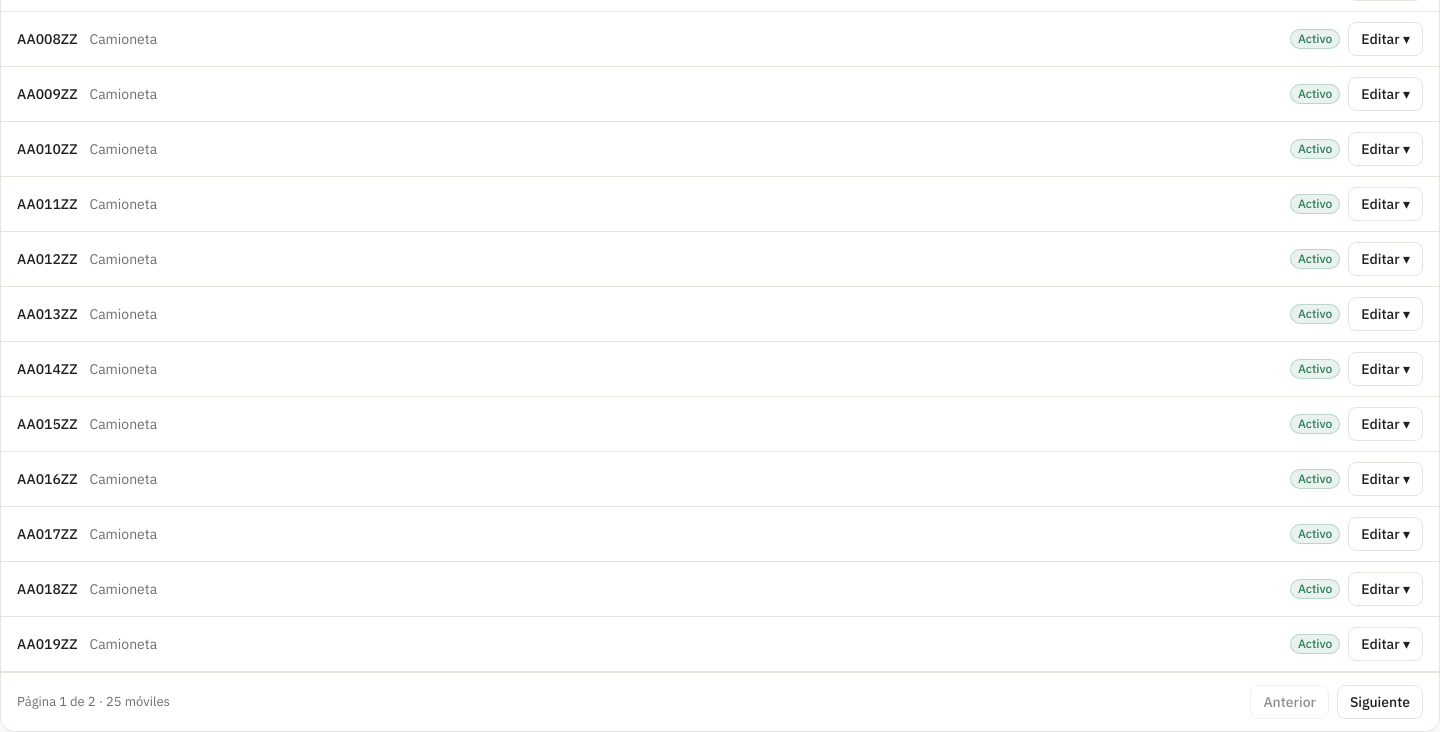
Test: MovilesAdminPage › paginación de a 20 › buscar vuelve a la primera página
(page scrolled)
Click the button "Siguiente" at (1380, 702), box [1337,685,1423,719]
(page scrolled)
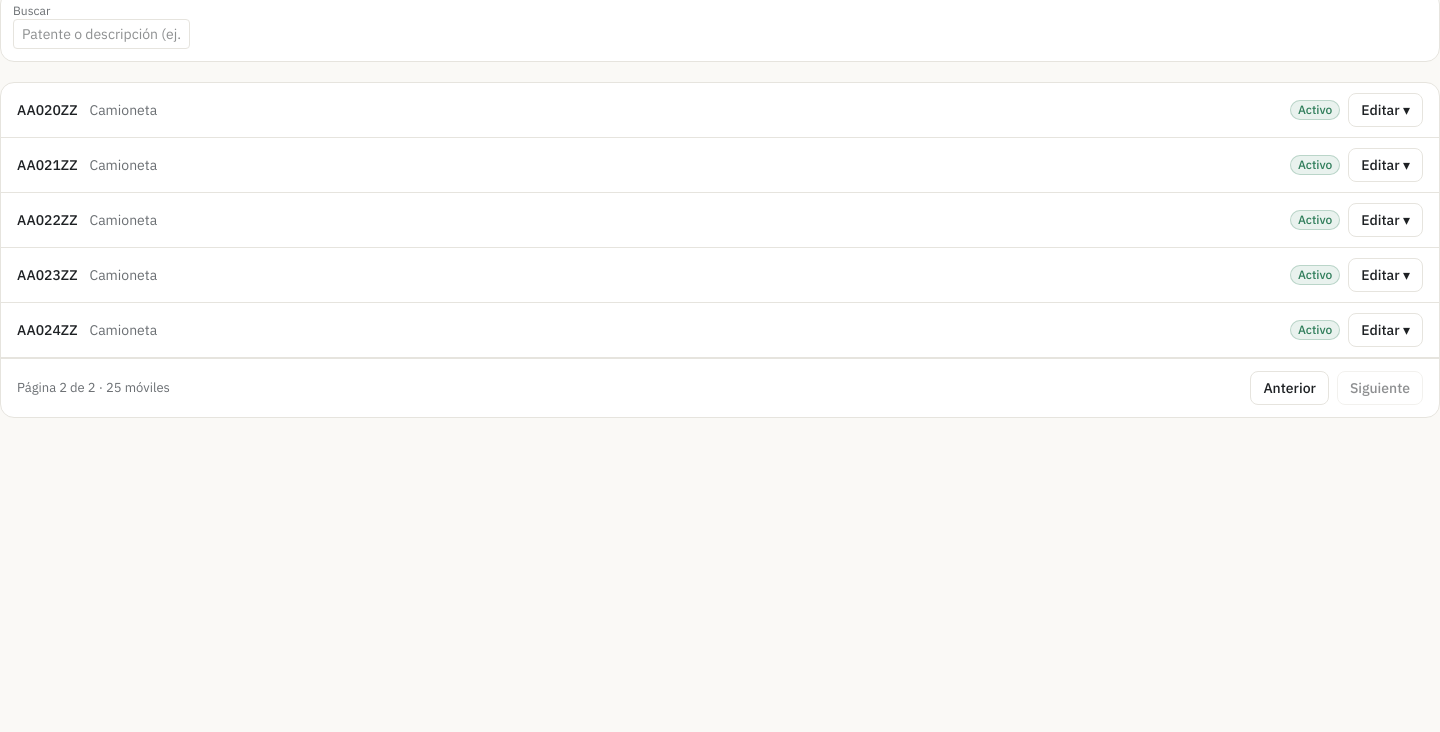
Now the text "Página 2 de 2 · 25 móviles" is shown, box [17,378,170,398]
Type "cam" into the field named "Buscar móvil" at (102, 34), box [13,19,190,49]
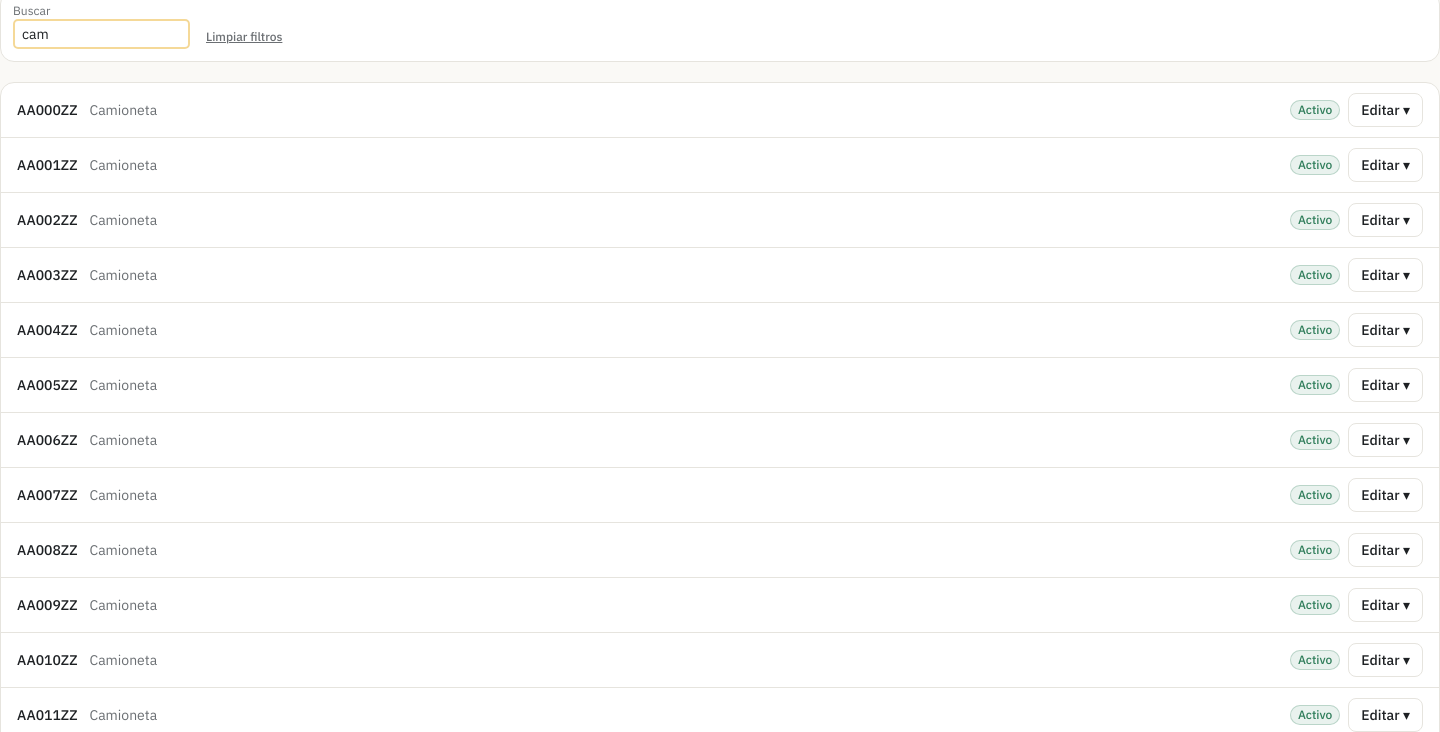
Now the text "AA000ZZ" is shown, box [17,100,77,120]
